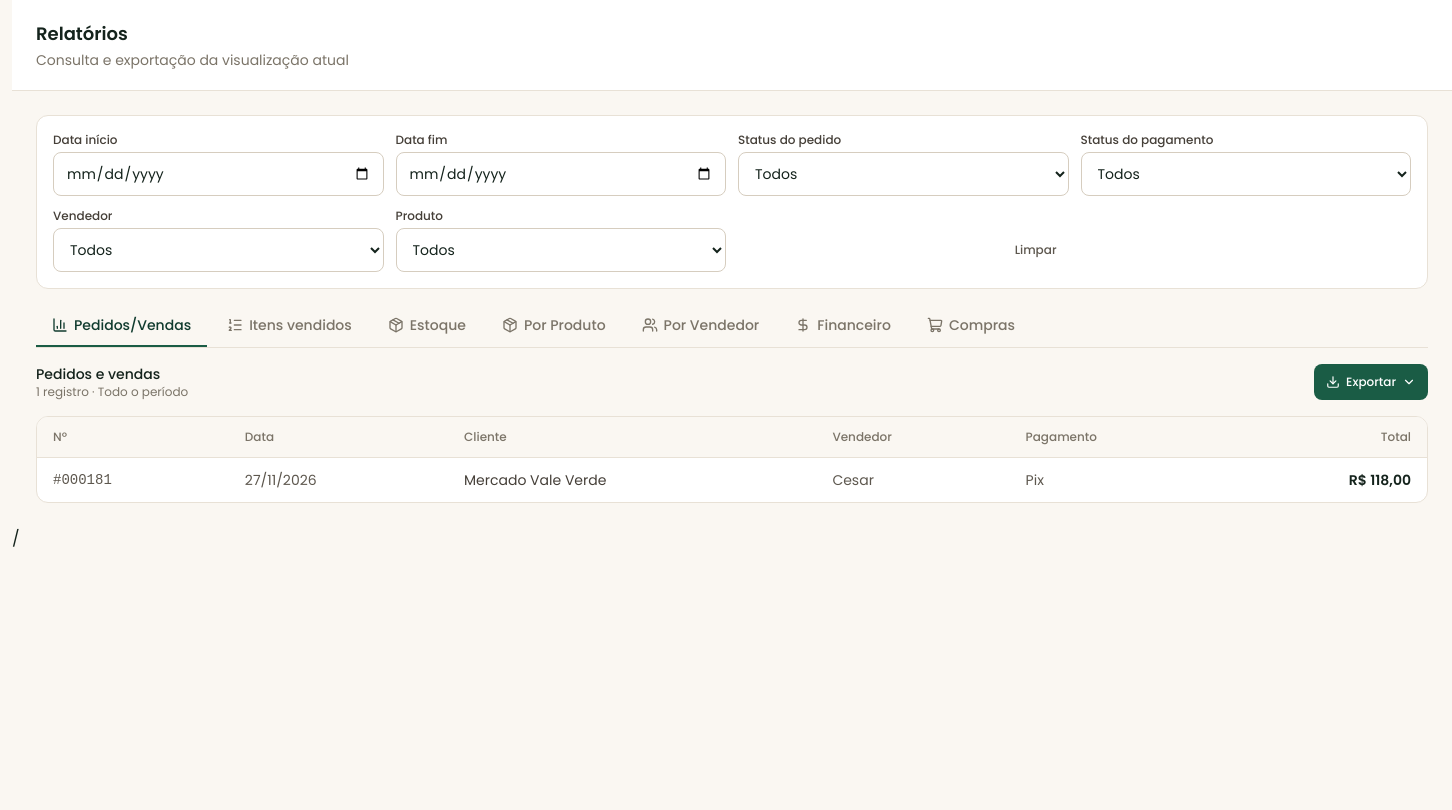
Test: Relatórios › filtros, resumo, limpar e itens filtrados por produto
This screenshot has width=1452, height=810.
Earlier steps of the test are not shown.
Type "2026-11-30" into the date field below "Data fim" at (561,174), box [396,152,726,196]
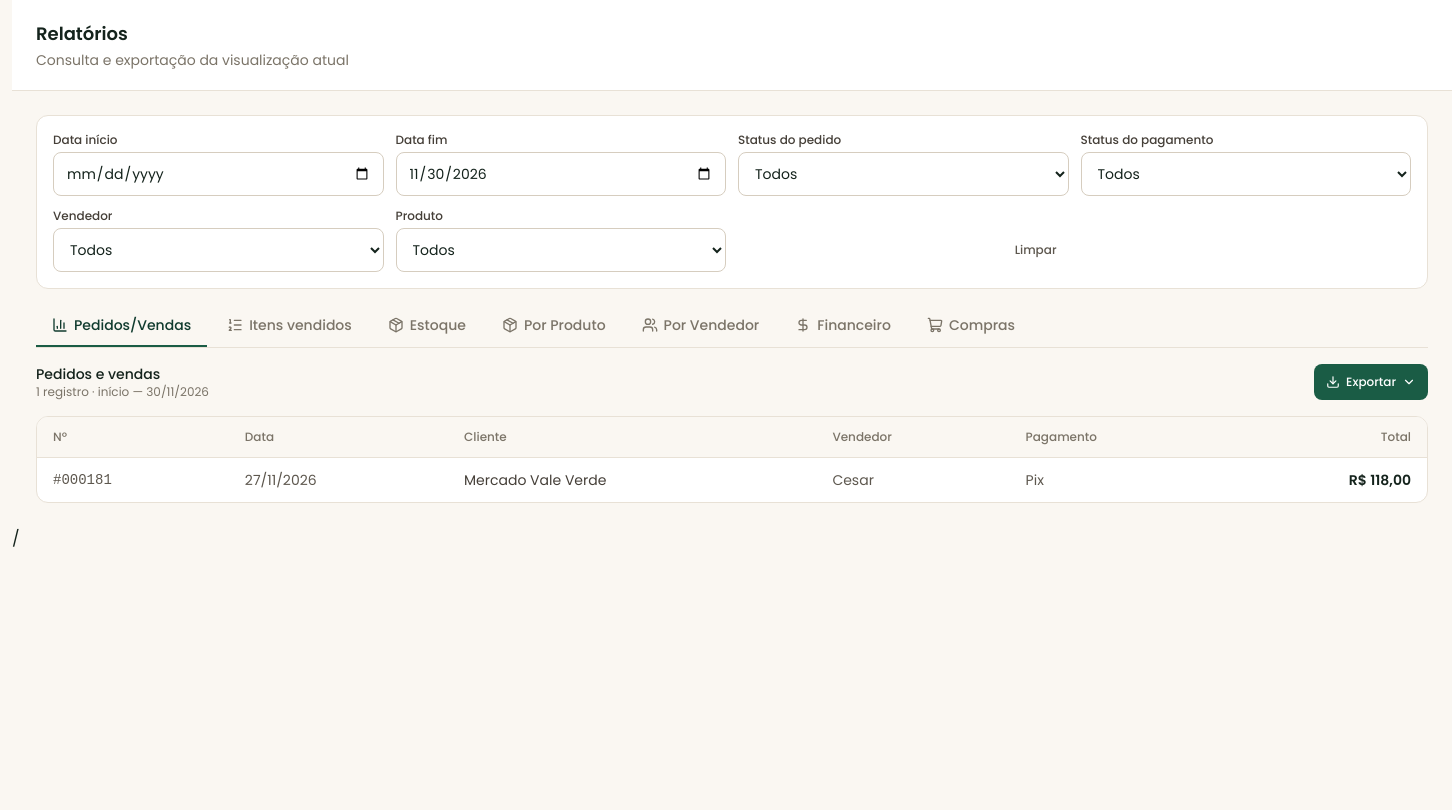
Now the text "1 registro · início — 30/11/2026" is shown, box [36,384,209,400]
Select "Aprovado" in the dropdown below "Status do pedido" at (903,174), box [738,152,1068,196]
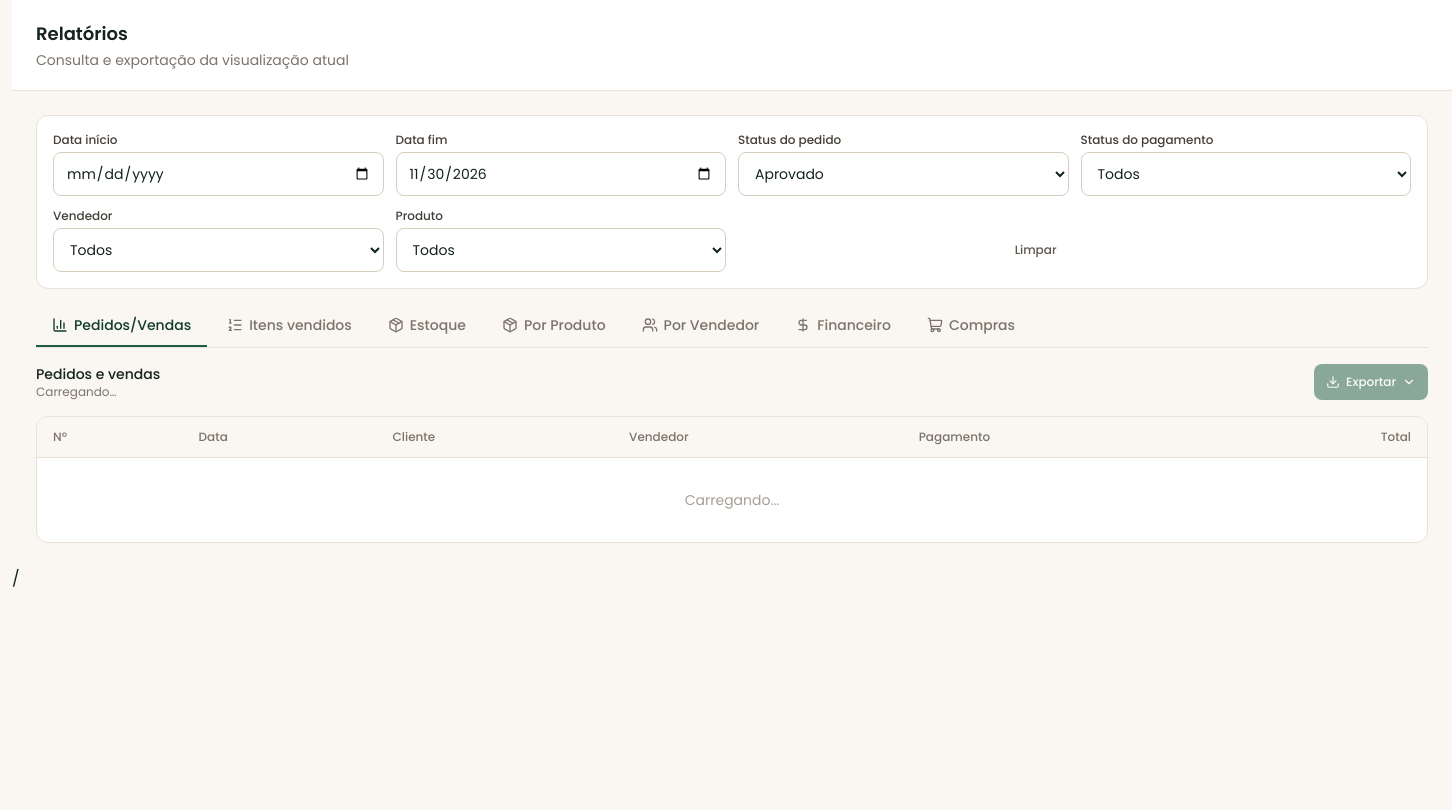
Select "Pago" in the dropdown below "Status do pagamento" at (1246,174), box [1080,152,1411,196]
Select "Cesar" in the 3rd dropdown at (218,250), box [53,228,384,272]
Select "Uva Vitória" in the 4th dropdown at (561,250), box [396,228,726,272]
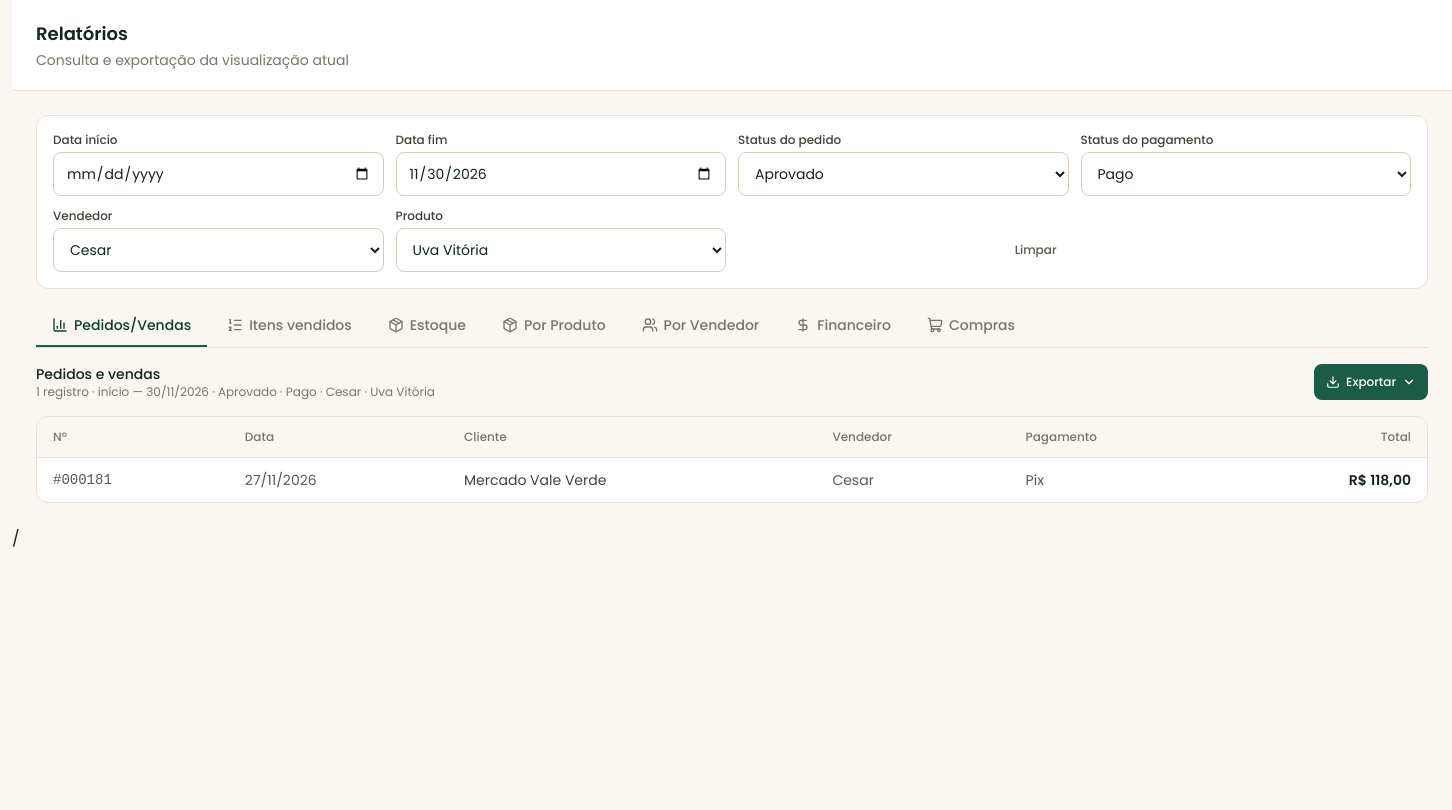
Now the text "Aprovado · Pago · Cesar · Uva Vitória" is shown, box [36,383,435,400]
Click the button "Itens vendidos" at (290,326), box [211,305,368,347]
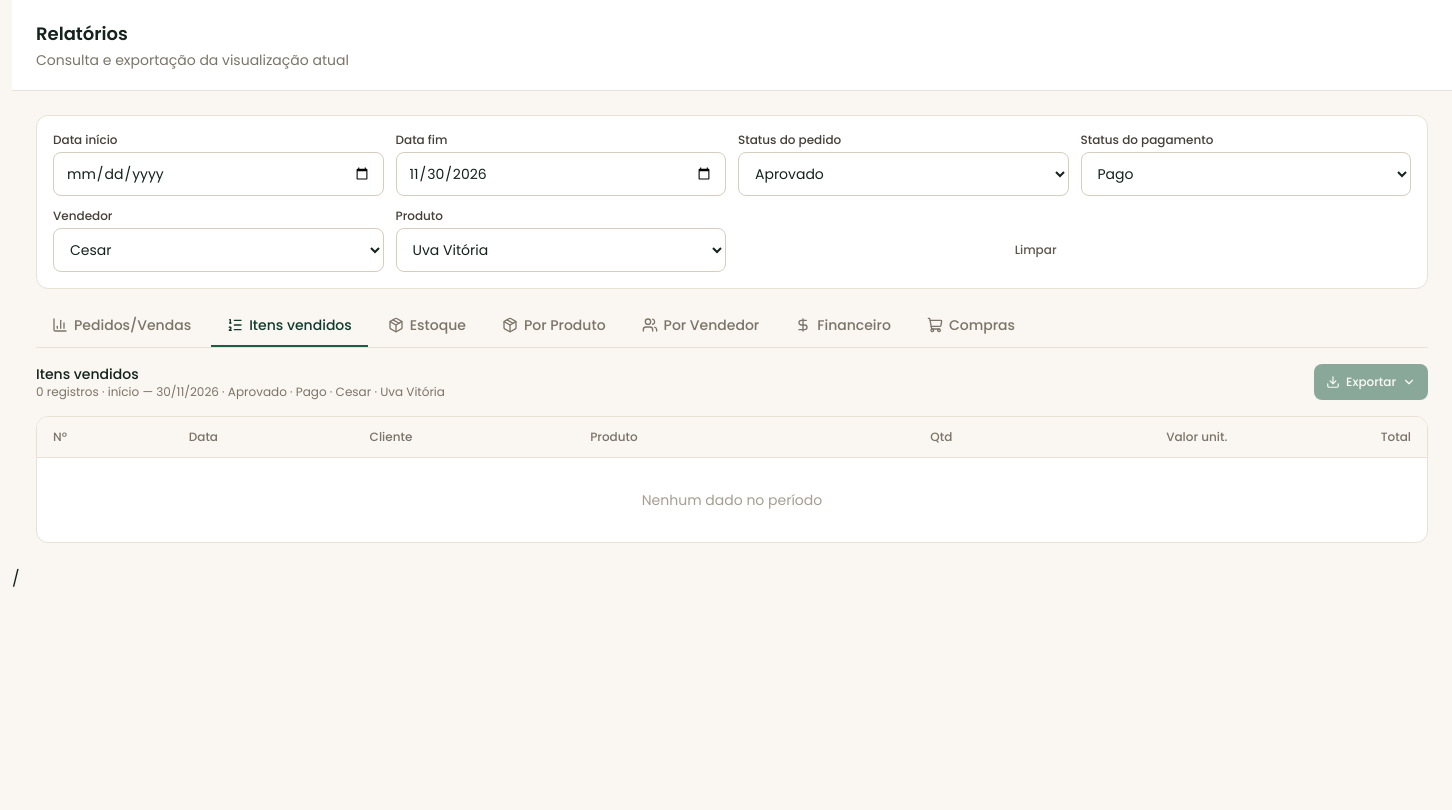
Now the text "Nenhum dado no período" is shown, box [37,458,1427,542]
Now the button "Exportar" is disabled, box [1314,364,1428,400]
Select "Morango B3" in the 4th dropdown at (561,250), box [396,228,726,272]
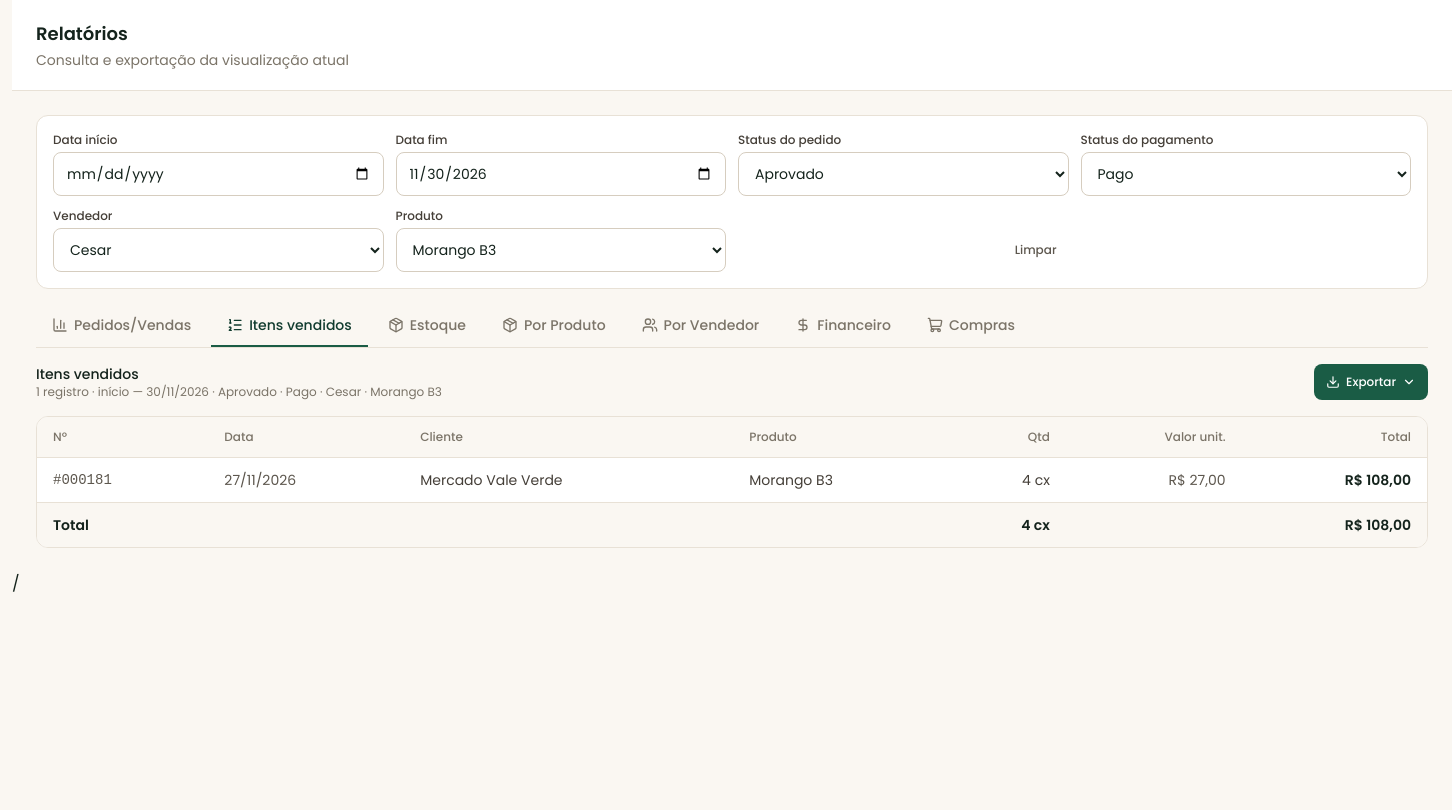
Now the text "4 cx" is shown 2 times, box [952,458,1066,502]; [952,502,1066,547]
Click the button "Limpar" at (1036,250), box [1003,228,1068,272]
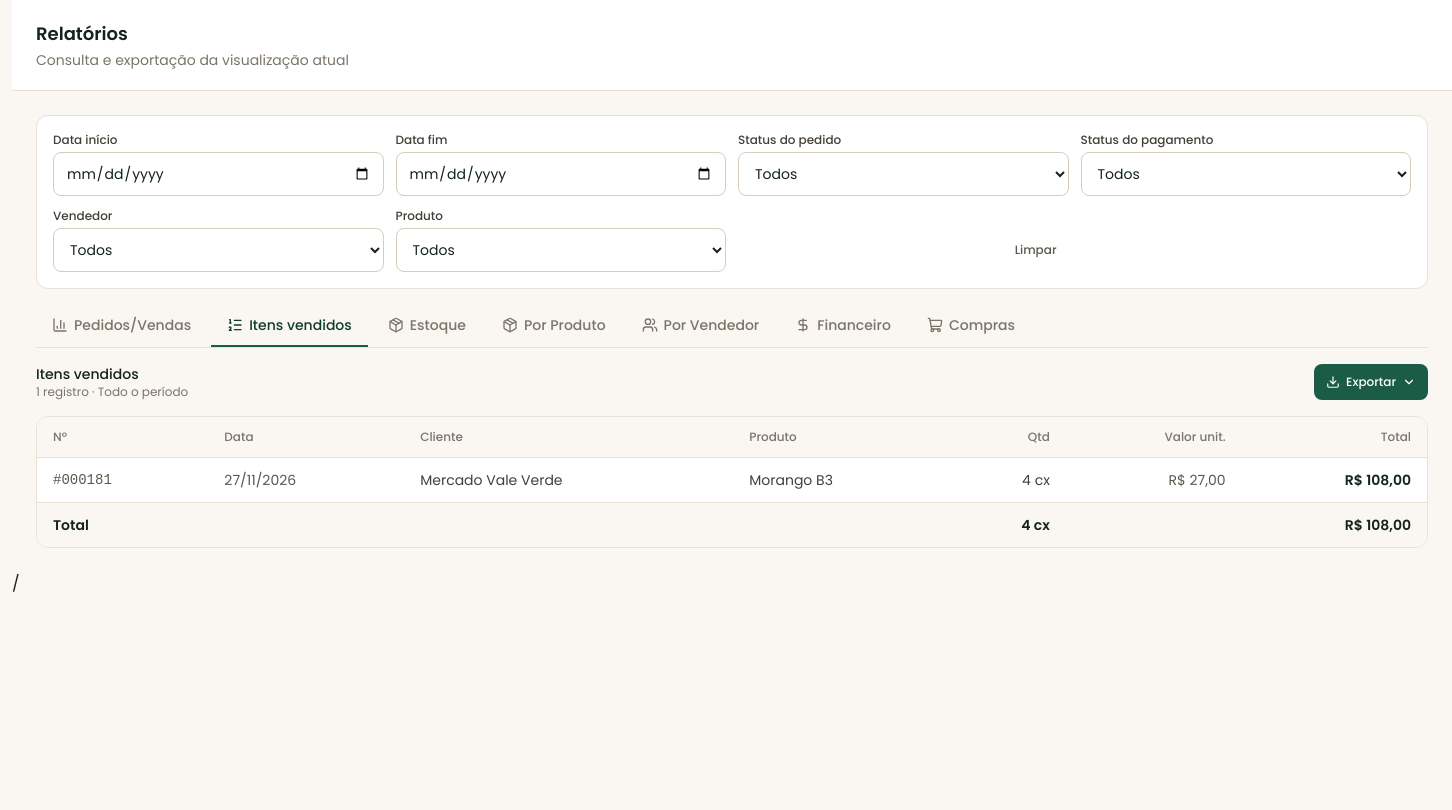
Now the text "1 registro · Todo o período" is shown, box [36,384,188,400]
